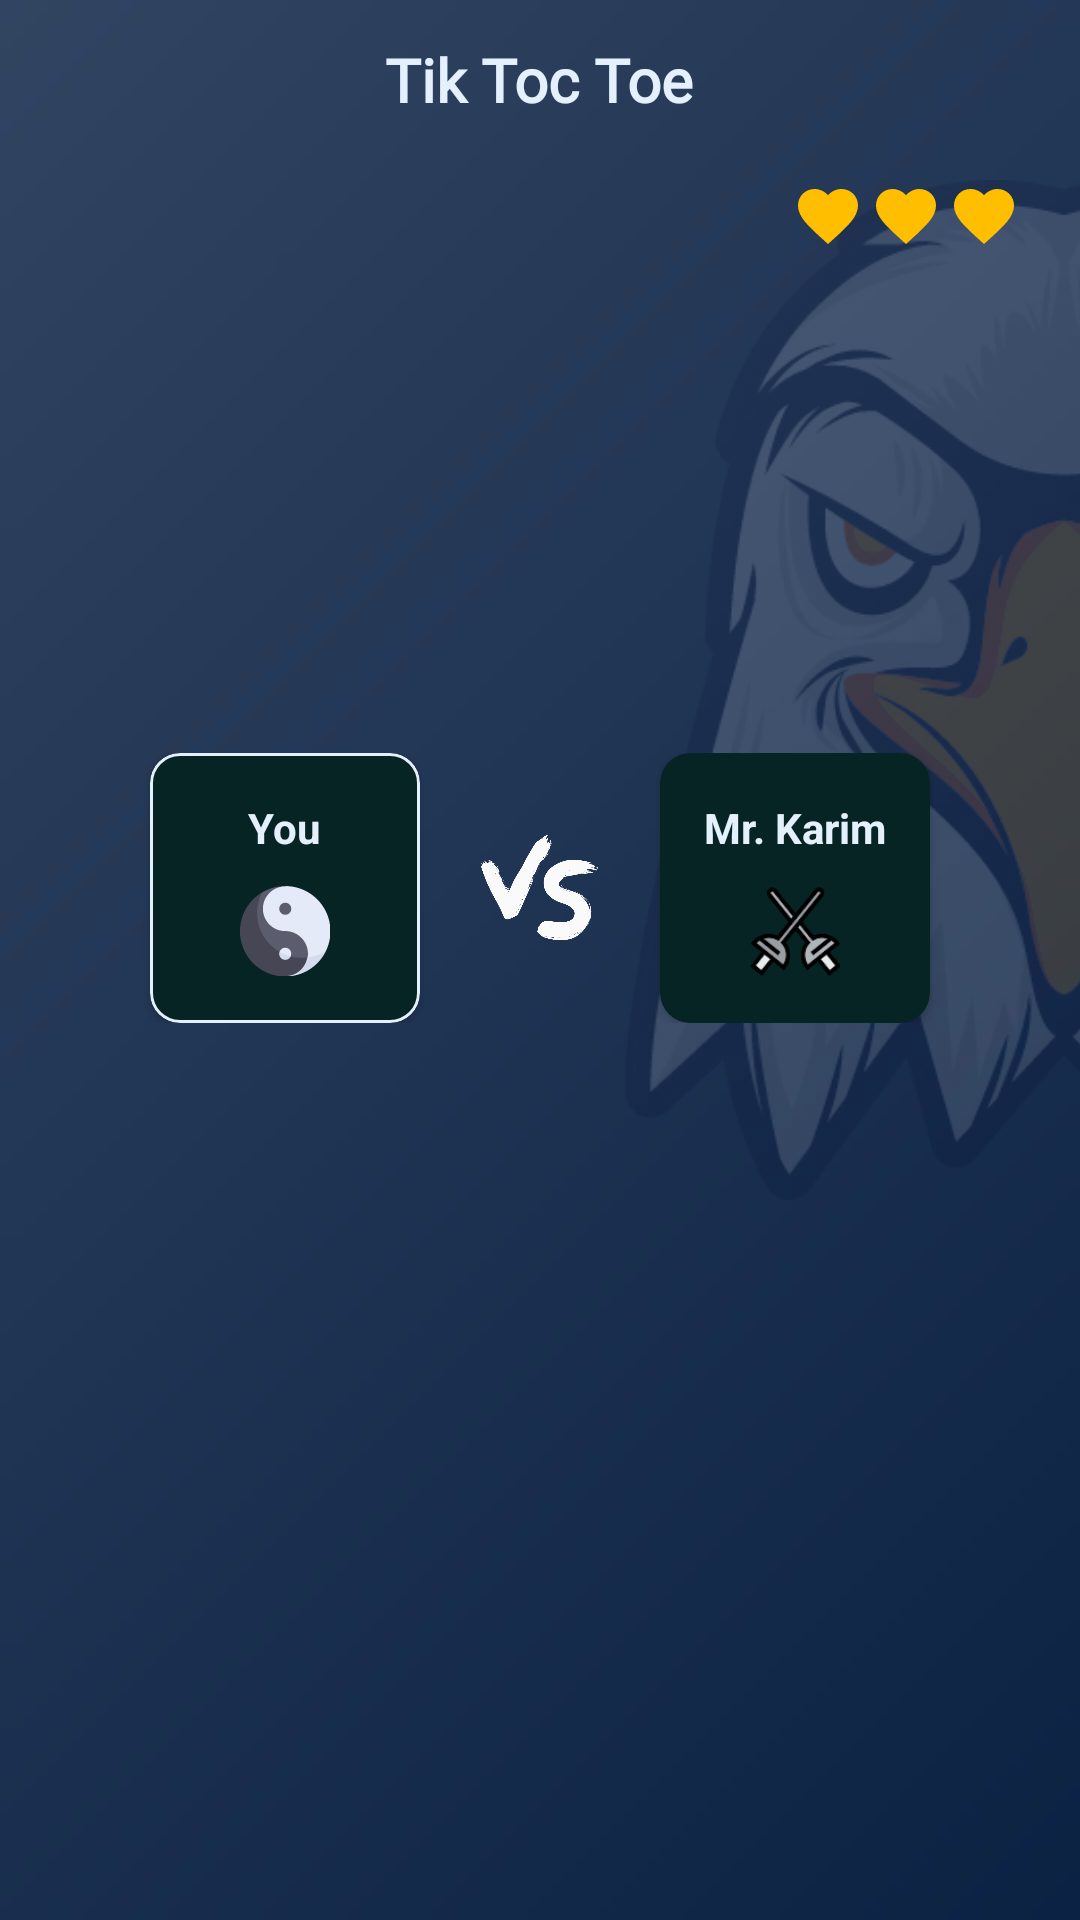

Screen size 1080px×1920px. Icon name, then its center in pixels as (x,y):
fancing: (795,931)
favorite: (984,216), (828,216), (906,220)
yinyang: (285,931)
